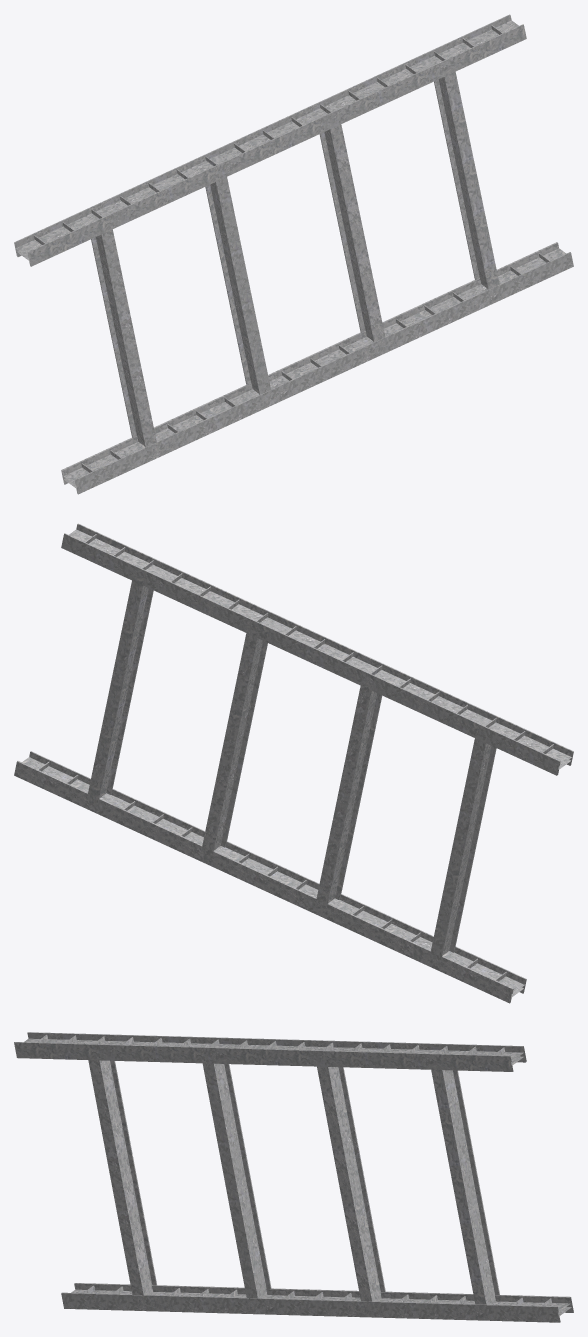
Rendered from _1BRIDGE_SUB2.obj.
3 renders of one model, top to bottom at view 1: azimuth 30°, elevation 25°; view 2: azimuth 150°, elevation 25°; view 3: azimuth 330°, elevation 25°, orthographic.
Visible parts, largest first — view 1: _1BRIDGE_SUB2_Scene.225; view 2: _1BRIDGE_SUB2_Scene.225; view 3: _1BRIDGE_SUB2_Scene.225.
Boxes of the visible parts, x1,y1,x2,y2 form: _1BRIDGE_SUB2_Scene.225: (14,14,573,494); _1BRIDGE_SUB2_Scene.225: (14,523,573,1003); _1BRIDGE_SUB2_Scene.225: (14,1032,573,1322).
Bounding box in the file's own units: 1871 × 1183 × 83.33.
